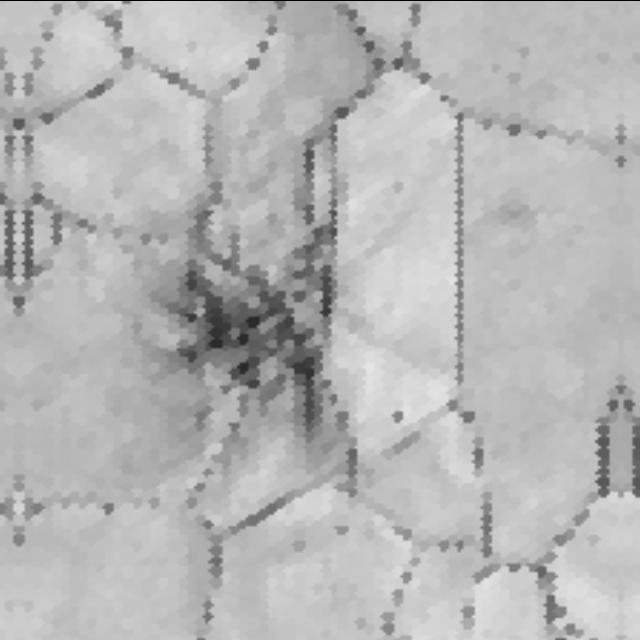good_void: (165, 235, 345, 451), (332, 520, 356, 537), (389, 403, 409, 423), (394, 179, 408, 191)
